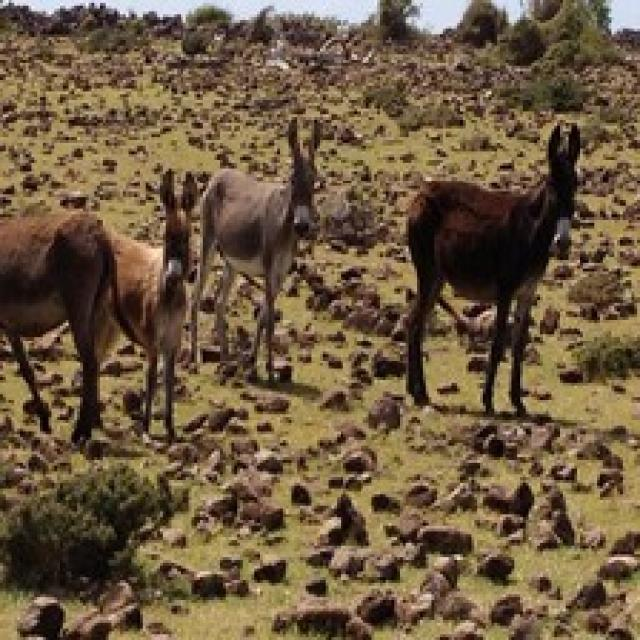Donkey: (400, 120, 580, 414), (188, 114, 322, 383), (0, 206, 120, 443), (102, 166, 198, 440)
